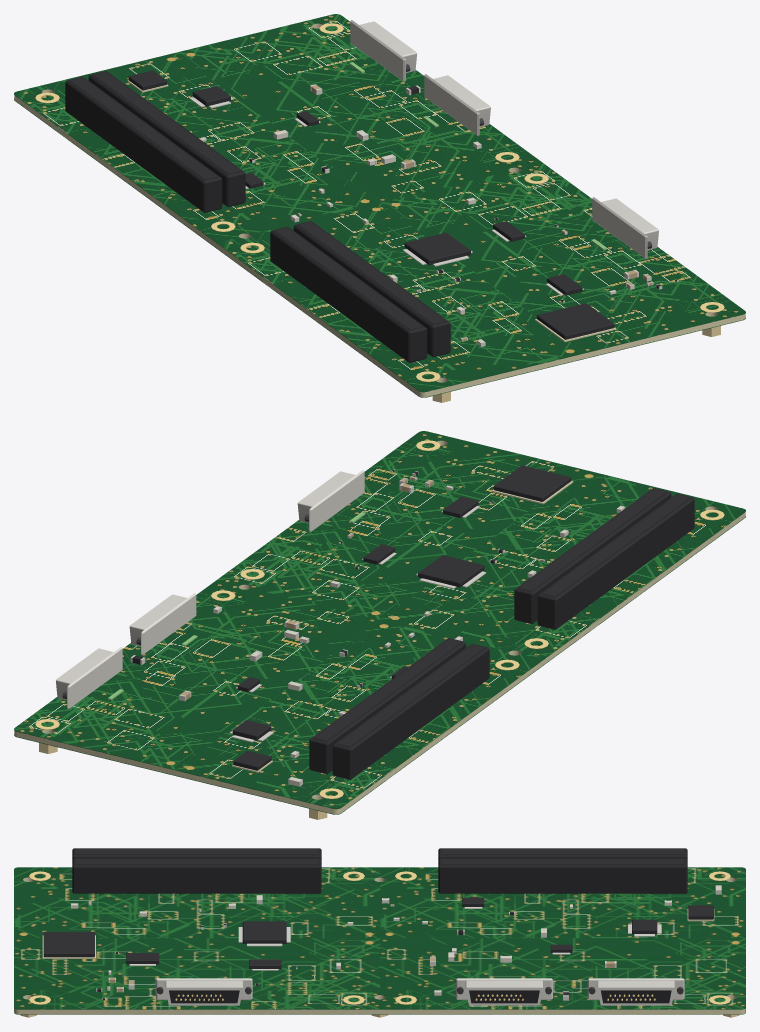
Rendered from backplane.glb.
The picture shows the model from 3 angles, top to bottom: view 1: azimuth 30°, elevation 25°; view 2: azimuth 150°, elevation 25°; view 3: azimuth 270°, elevation 25°; orthographic projection. The views are drawn at different scales.
Parts seen in each view (by area): view 1: backplane; view 2: backplane; view 3: backplane.
Part boxes in pixels (left/top/right/bottom): backplane: left=14, top=14, right=745, bottom=402; backplane: left=14, top=431, right=745, bottom=819; backplane: left=14, top=848, right=745, bottom=1017.
Size of the model in its own units: 0.092 by 0.0136 by 0.2.
11 materials, 1 textured.
